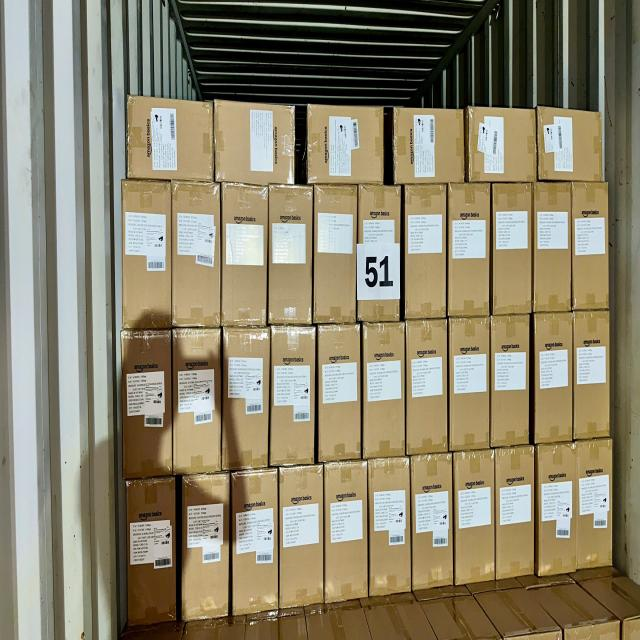Carton: (122, 331, 174, 480), (124, 99, 211, 184), (122, 180, 171, 327), (184, 472, 232, 622), (128, 480, 176, 628), (175, 182, 223, 327), (213, 103, 294, 188), (176, 327, 223, 472), (230, 469, 276, 616), (222, 326, 268, 471), (278, 465, 324, 608), (222, 183, 266, 327), (326, 461, 370, 604), (270, 184, 314, 327), (357, 184, 401, 326), (310, 106, 388, 186), (272, 326, 316, 467), (316, 185, 360, 326), (320, 326, 364, 465), (368, 457, 410, 598), (360, 326, 404, 460), (404, 183, 447, 317), (407, 320, 449, 456), (446, 318, 488, 452), (412, 456, 454, 590), (392, 108, 465, 185), (446, 183, 488, 315), (455, 451, 497, 583), (495, 448, 536, 581), (492, 184, 533, 314), (538, 443, 578, 576), (469, 105, 537, 182), (491, 314, 530, 447), (534, 312, 574, 440), (538, 105, 605, 181), (571, 185, 609, 313), (573, 312, 611, 439), (536, 183, 573, 313), (576, 441, 612, 570)
